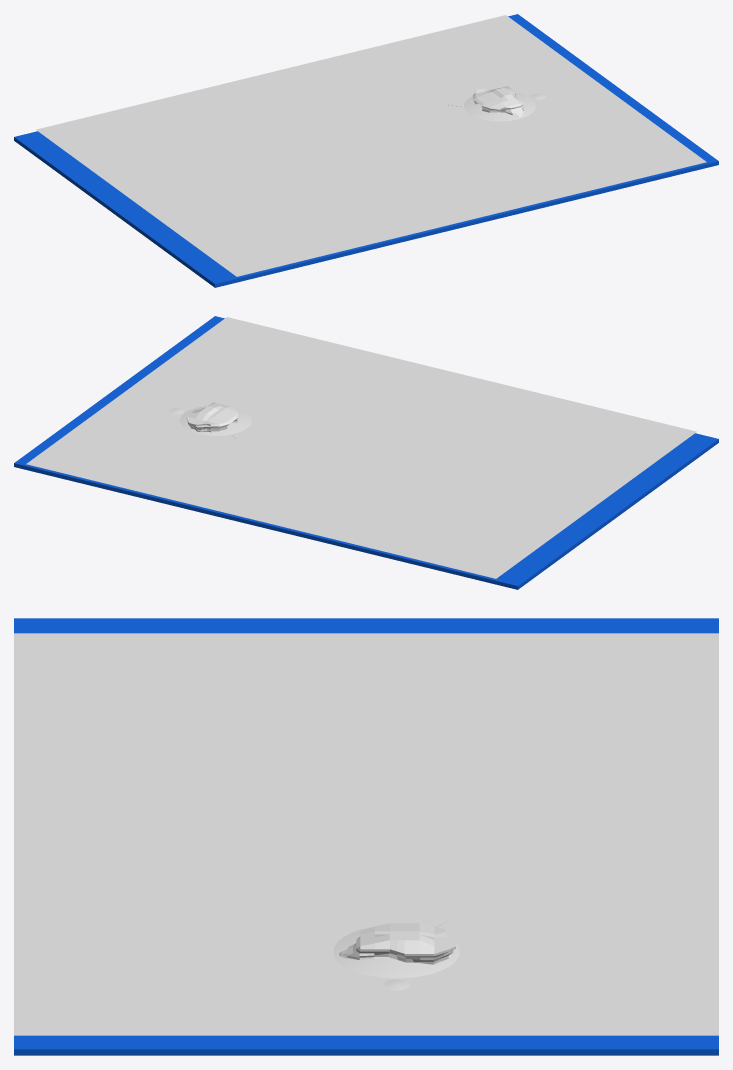
Rendered from CGIslandRevisionFinal.fbx.
3 renders of one model, top to bottom at view 1: azimuth 30°, elevation 25°; view 2: azimuth 150°, elevation 25°; view 3: azimuth 270°, elevation 25°, orthographic. The views are drawn at different scales.
Parts seen in each view (by area): view 1: Water, UnderWater, Hill&Cliffs, SandPile2; view 2: Water, UnderWater, Hill&Cliffs, SandPile2; view 3: Water, UnderWater, Hill&Cliffs, SandPile2.
Part boxes in pixels (left/top/right/bottom): Water: left=36, top=15, right=706, bottom=276; UnderWater: left=14, top=14, right=718, bottom=287; Hill&Cliffs: left=472, top=83, right=523, bottom=116; SandPile2: left=464, top=92, right=535, bottom=121; Water: left=26, top=317, right=696, bottom=578; UnderWater: left=14, top=316, right=718, bottom=589; Hill&Cliffs: left=186, top=402, right=238, bottom=432; SandPile2: left=180, top=406, right=251, bottom=435; Water: left=14, top=633, right=718, bottom=1035; UnderWater: left=14, top=618, right=718, bottom=1055; Hill&Cliffs: left=339, top=923, right=455, bottom=964; SandPile2: left=333, top=926, right=459, bottom=978.
Bounding box in the file's own units: 151403 × 4872 × 104657.
